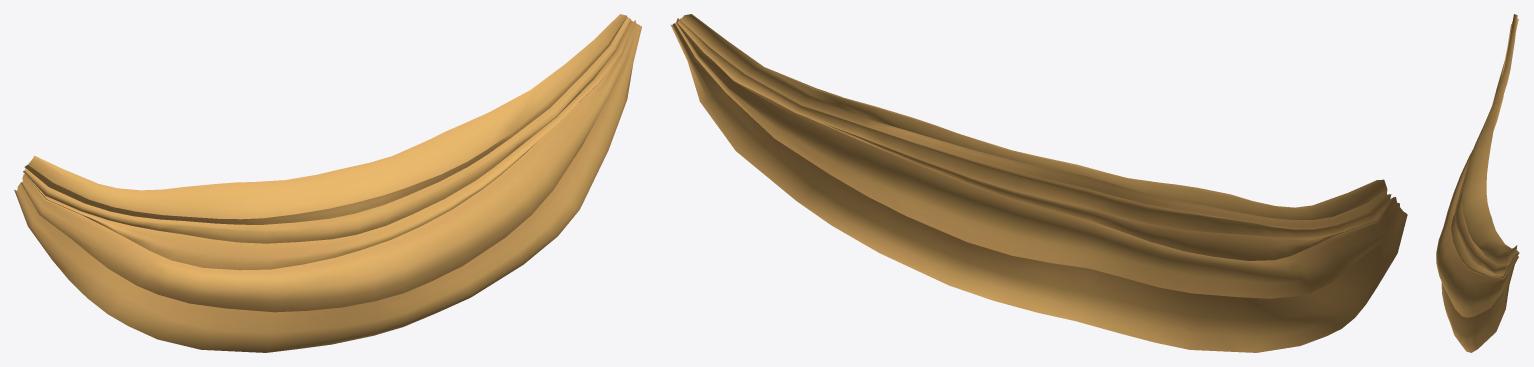
The model's file is CurtainHorizontal.fbx.
3 renders of one model, left to right at view 1: azimuth 30°, elevation 25°; view 2: azimuth 150°, elevation 25°; view 3: azimuth 270°, elevation 25°, orthographic. The views are drawn at different scales.
Parts seen in each view (by area): view 1: CurtainHorizontal; view 2: CurtainHorizontal; view 3: CurtainHorizontal.
Part boxes in pixels (bbox=[...]): CurtainHorizontal: bbox=[14, 14, 641, 352]; CurtainHorizontal: bbox=[670, 14, 1407, 352]; CurtainHorizontal: bbox=[1436, 14, 1519, 352].
Bounding box in the file's own units: 1956 × 664 × 281.
Materials: 1 (1 with a texture image).
